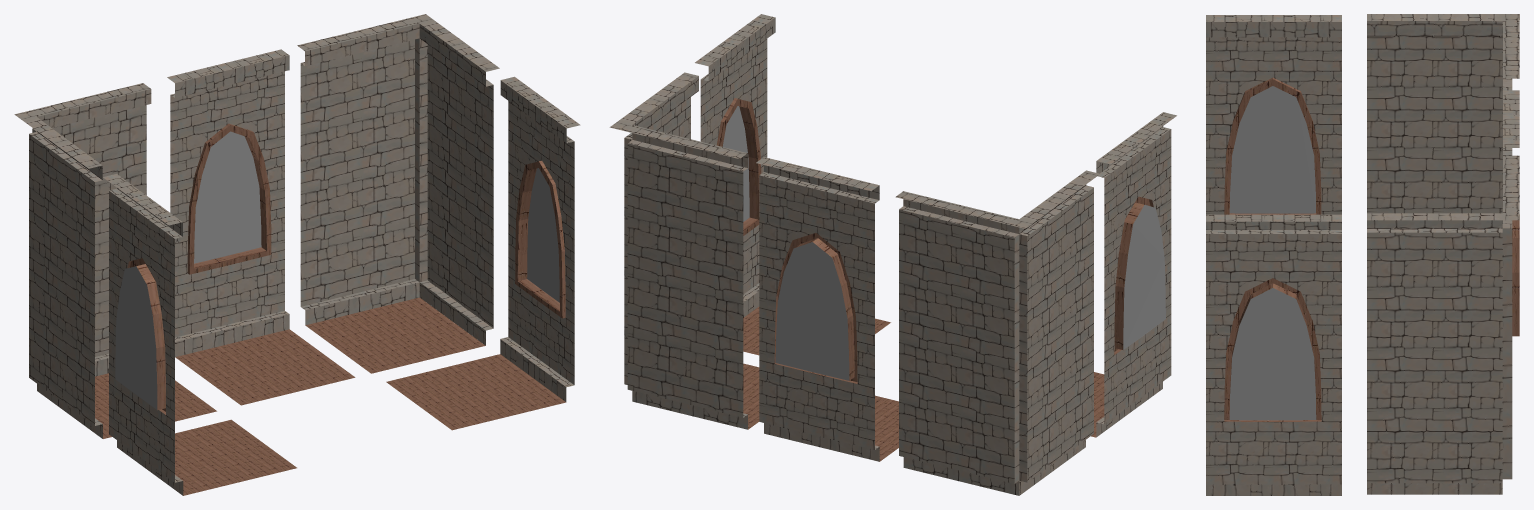
Rendered from Tileset 2.fbx.
3 renders of one model, left to right at view 1: azimuth 30°, elevation 25°; view 2: azimuth 150°, elevation 25°; view 3: azimuth 270°, elevation 25°, orthographic. The views are drawn at different scales.
Parts seen in each view (by area): view 1: tile 032, tile 029, tile 033, tile 034, tile 035; view 2: tile 033, tile 032, tile 029, tile 035, tile 034; view 3: tile 032, tile 034, tile 033, tile 035, tile 029.
Boxes of the visible parts, <box> form: tile 032: <box>297,14,499,373</box>; tile 029: <box>167,49,355,405</box>; tile 033: <box>14,83,216,438</box>; tile 034: <box>386,76,580,430</box>; tile 035: <box>103,174,296,495</box>; tile 033: <box>895,170,1099,495</box>; tile 032: <box>609,72,759,429</box>; tile 029: <box>756,157,898,461</box>; tile 035: <box>1091,112,1176,437</box>; tile 034: <box>695,14,890,355</box>; tile 032: <box>1367,155,1519,494</box>; tile 034: <box>1206,214,1341,495</box>; tile 033: <box>1367,14,1519,213</box>; tile 035: <box>1206,15,1341,214</box>; tile 029: <box>1503,90,1519,336</box>.
Size of the model in its own units: 285 by 180 by 182.
